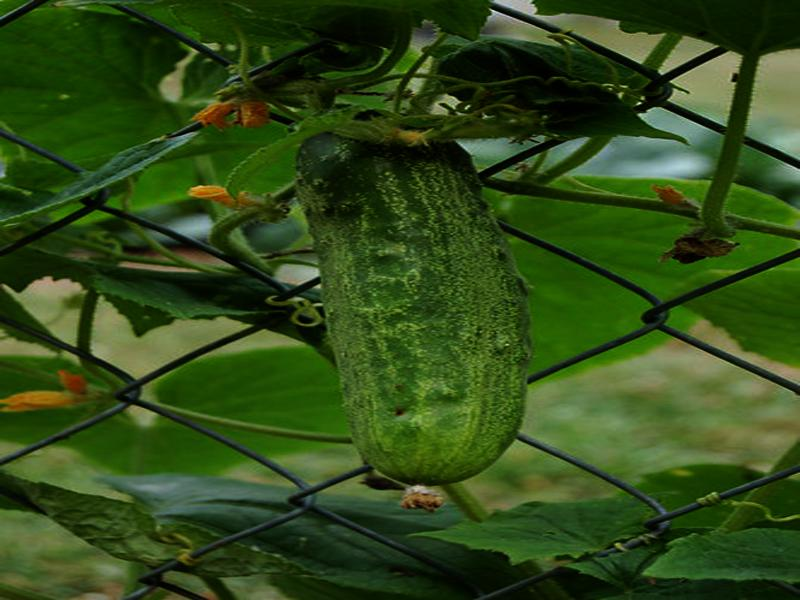Cucumber: (301, 113, 525, 507)
